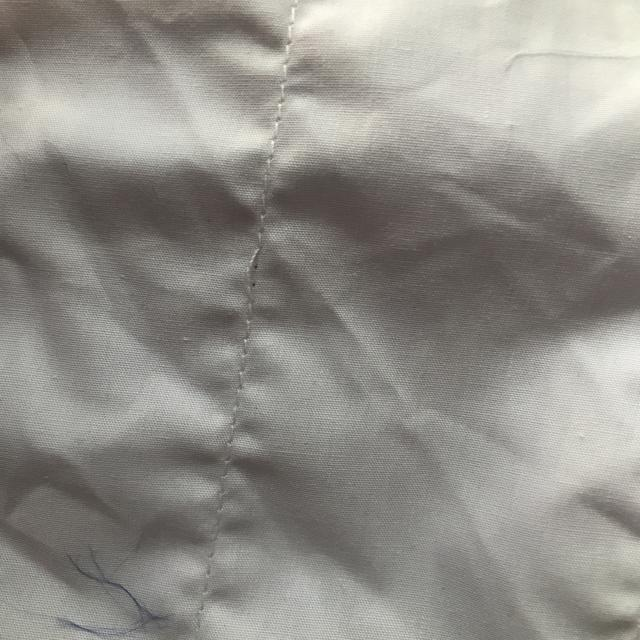skip: (232, 234, 276, 310)
